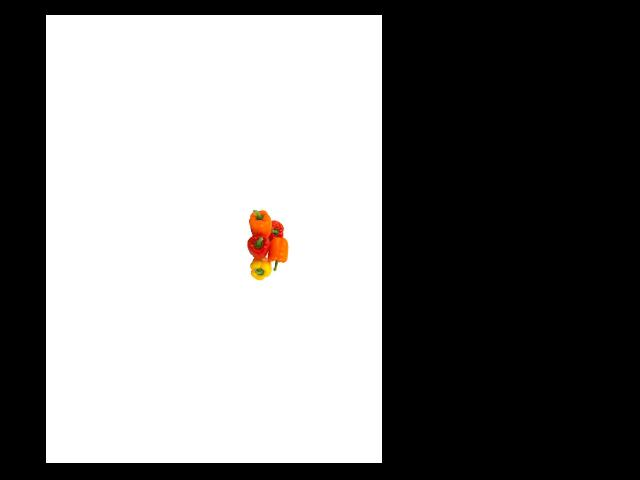bell_pepper: (246, 204, 274, 238)
